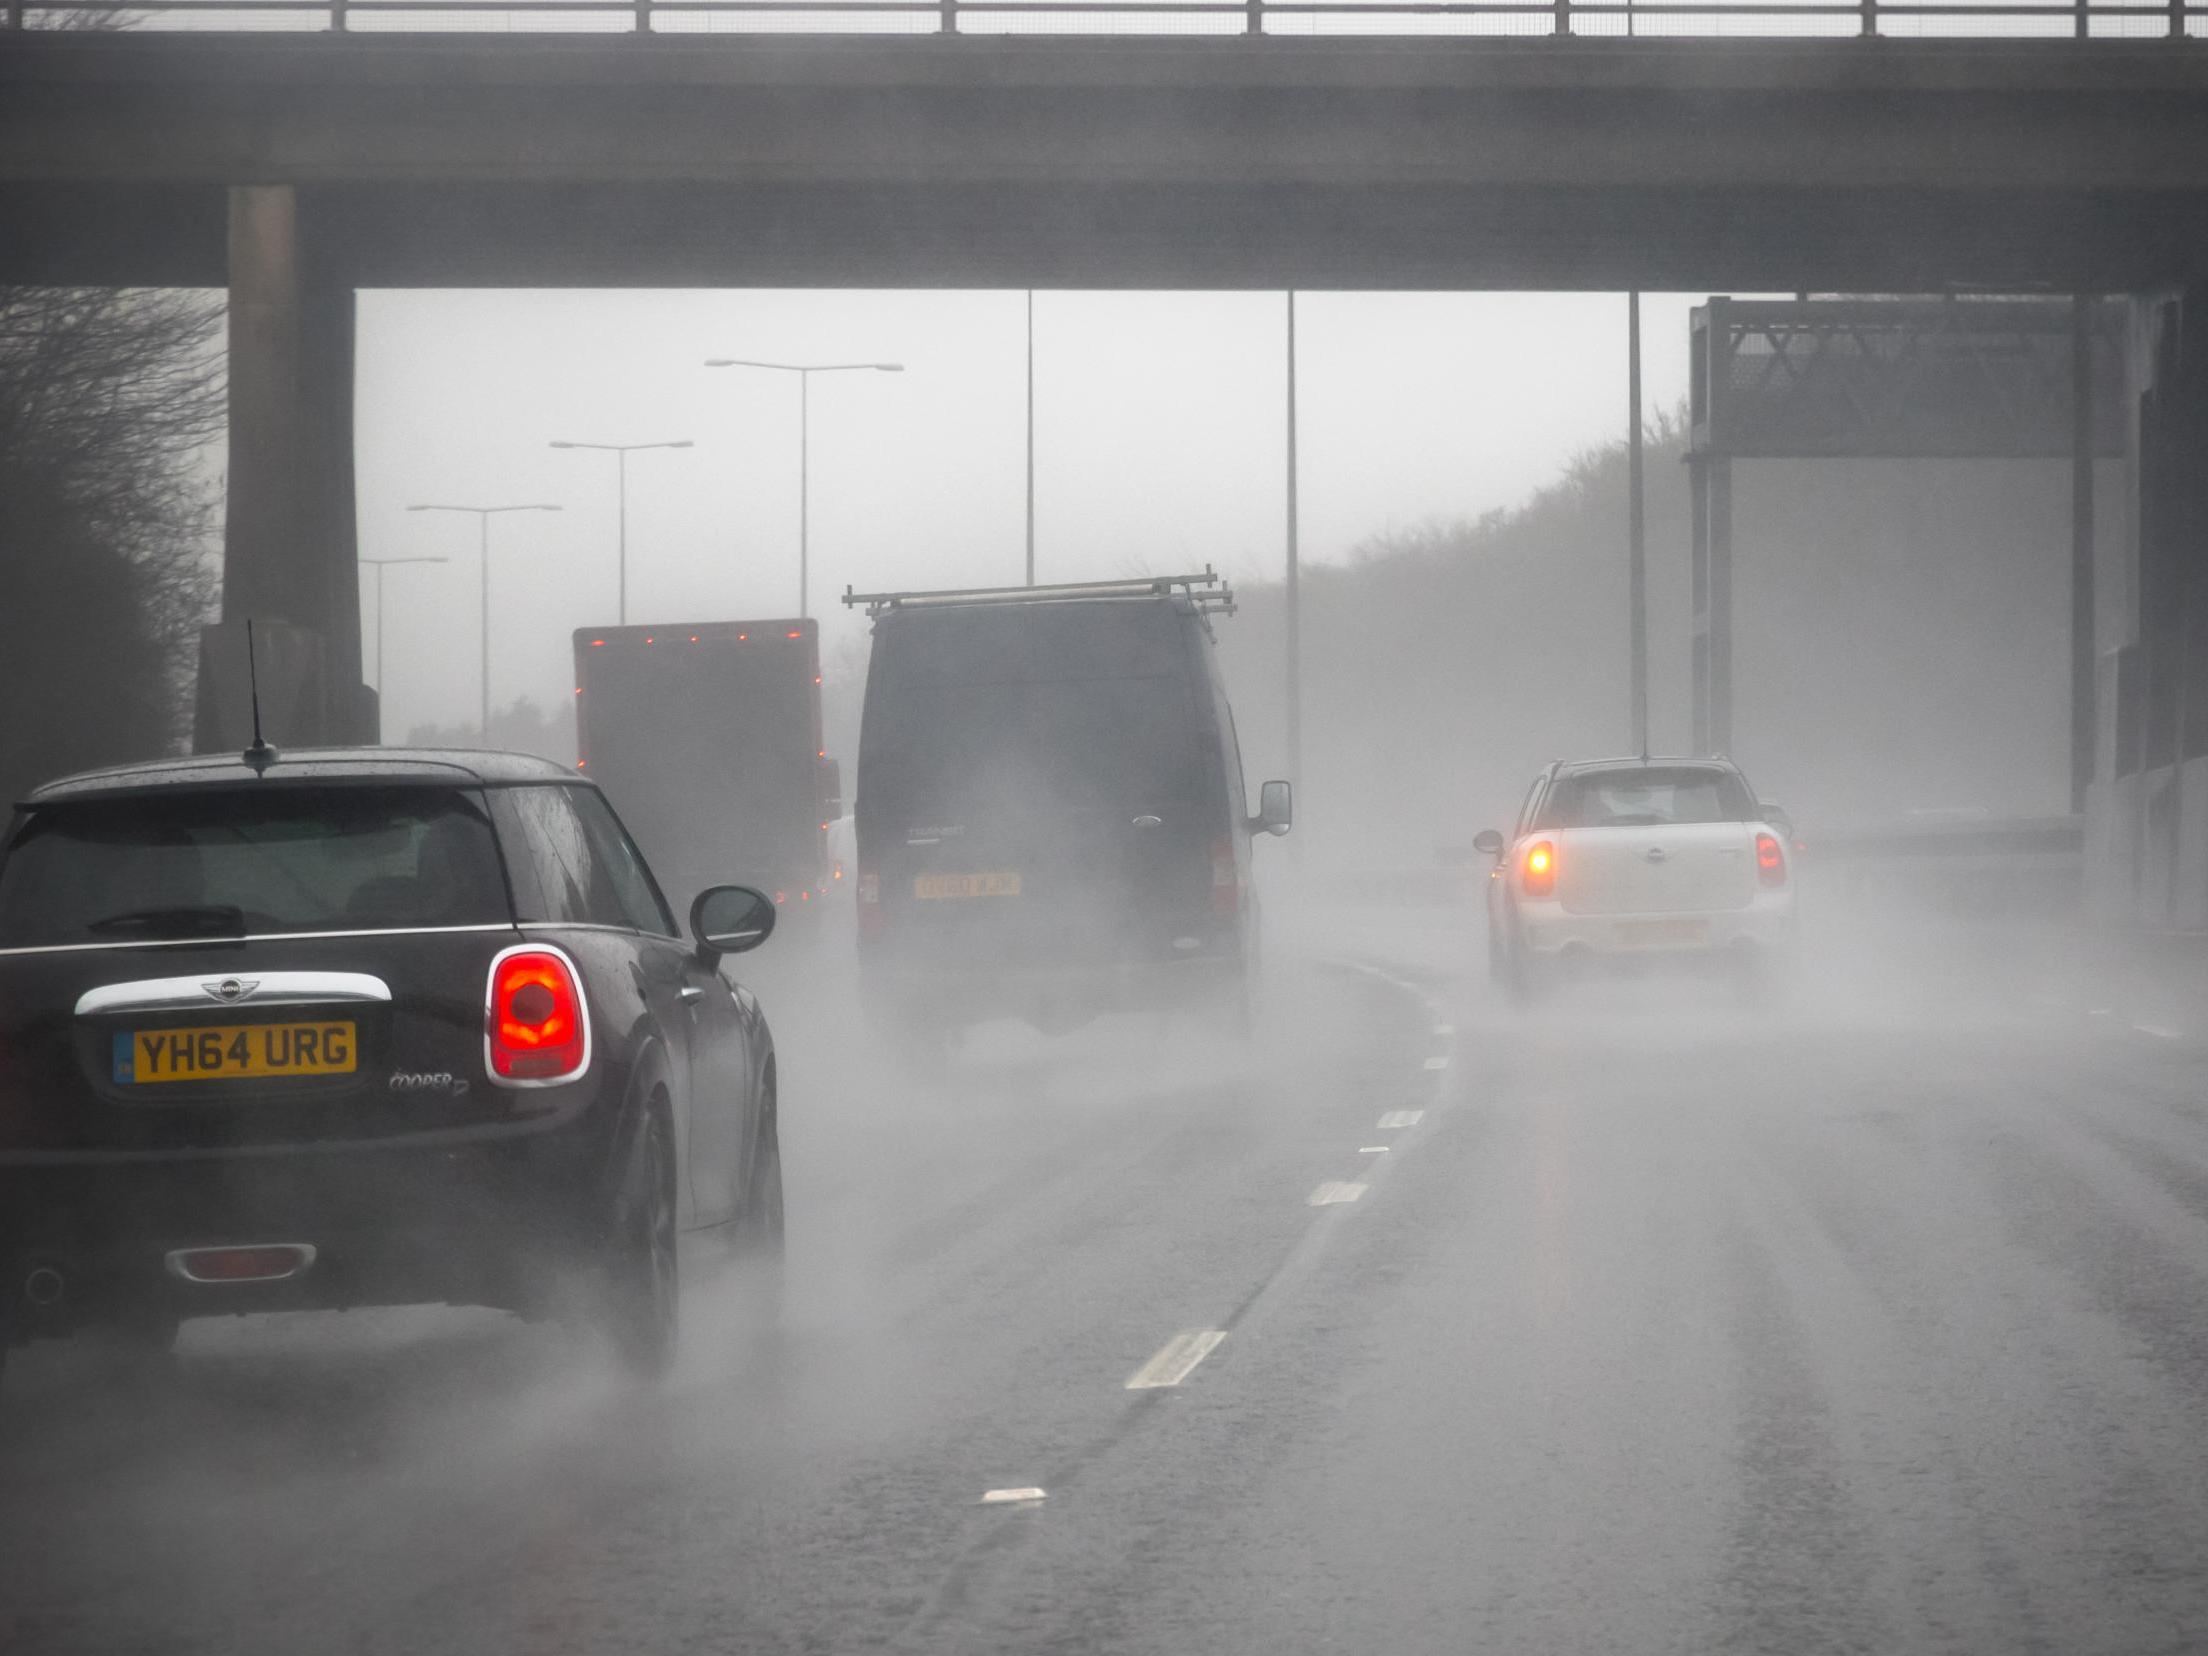car: (0, 725, 791, 1400), (862, 604, 1287, 1056), (1480, 755, 1803, 993)
truck: (570, 612, 835, 993)
